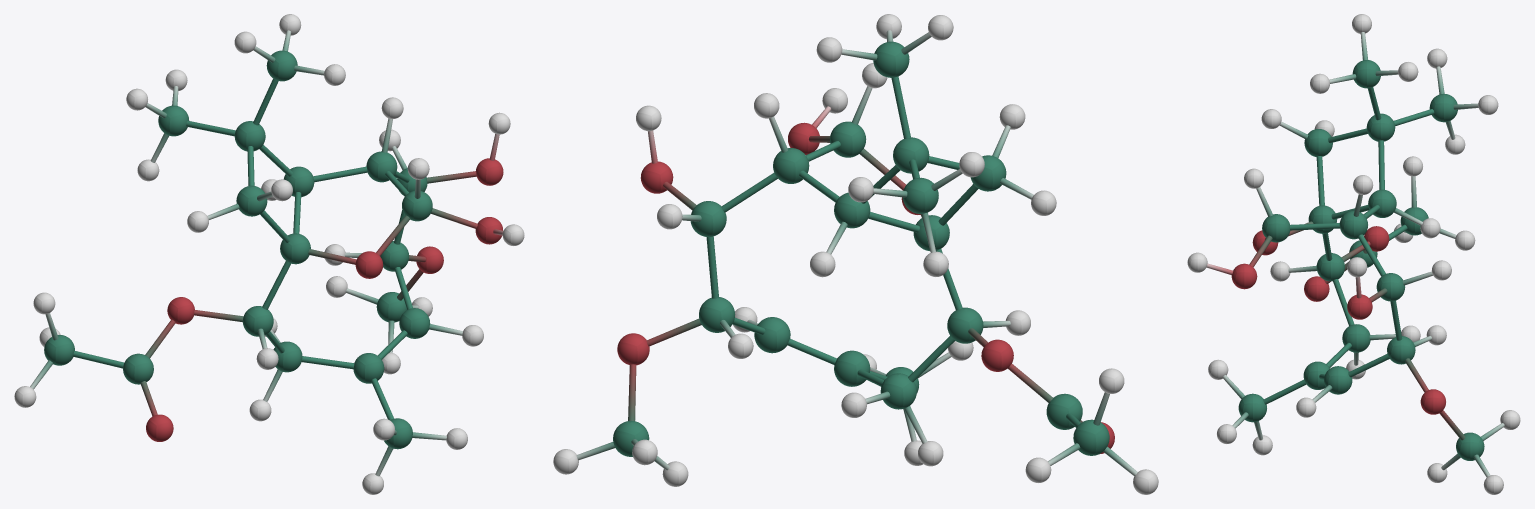
File: Pestalotiopsin A.fbx
3 renders of one model, left to right at view 1: azimuth 30°, elevation 25°; view 2: azimuth 150°, elevation 25°; view 3: azimuth 270°, elevation 25°, orthographic. The views are drawn at different scales.
Parts seen in each view (by area): view 1: curMeshHyperballExportedMesh; view 2: curMeshHyperballExportedMesh; view 3: curMeshHyperballExportedMesh.
Boxes of the visible parts, x1,y1,x2,y2 form: curMeshHyperballExportedMesh: [14, 14, 524, 494]; curMeshHyperballExportedMesh: [553, 14, 1158, 494]; curMeshHyperballExportedMesh: [1187, 14, 1520, 494].
Size of the model in its own units: 9.87 by 8.87 by 6.59.
